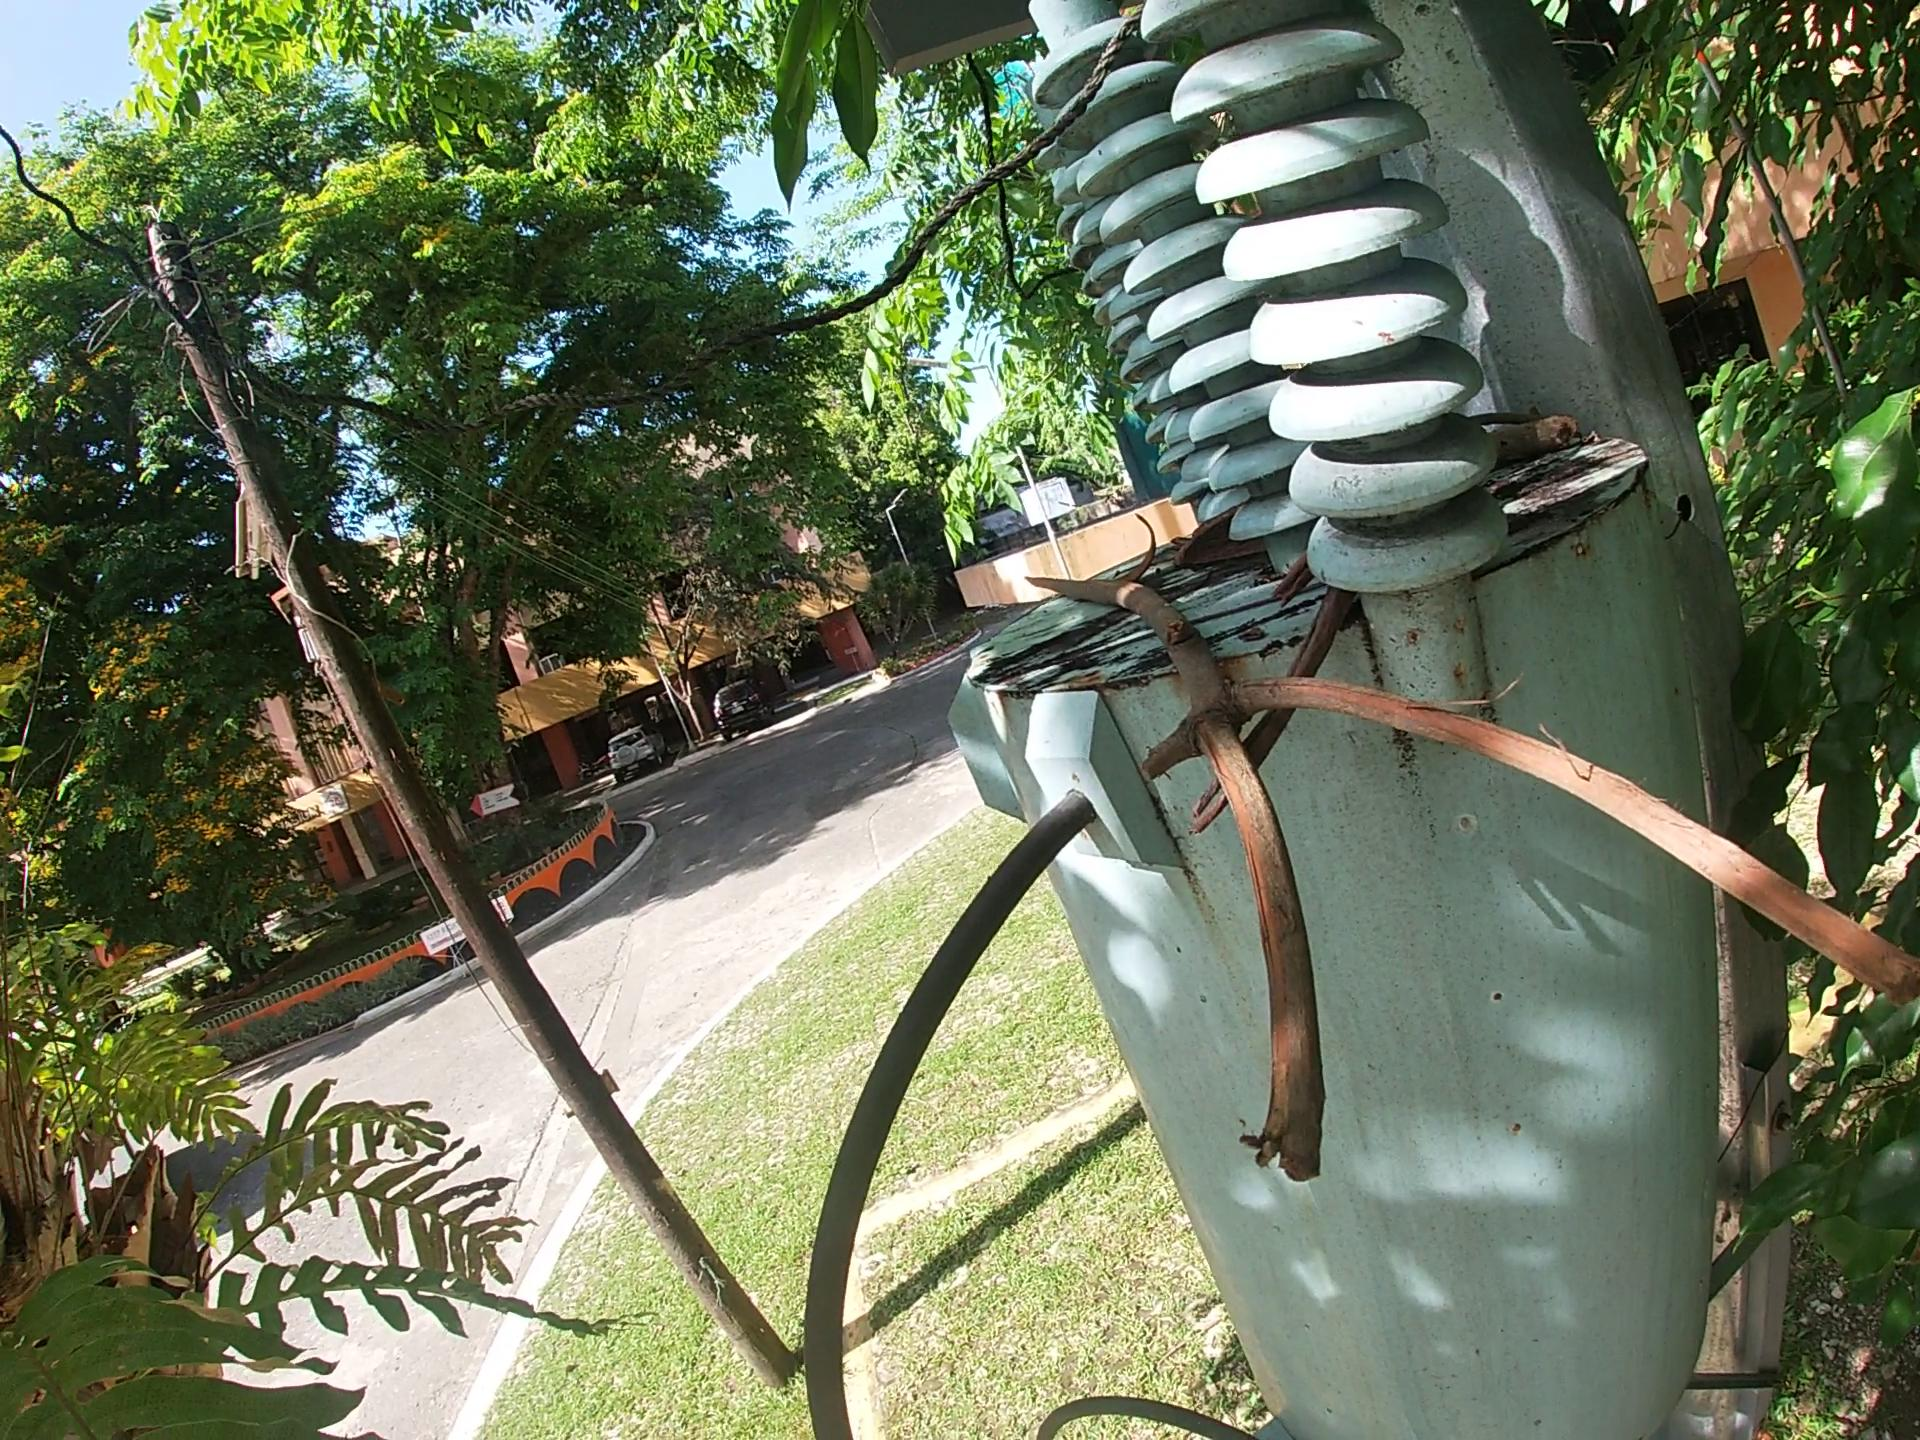mahogany fruit: (1169, 501, 1268, 576), (1117, 510, 1161, 587)
tree branch: (1017, 567, 1920, 1193), (1185, 551, 1355, 850), (1469, 401, 1584, 483)
